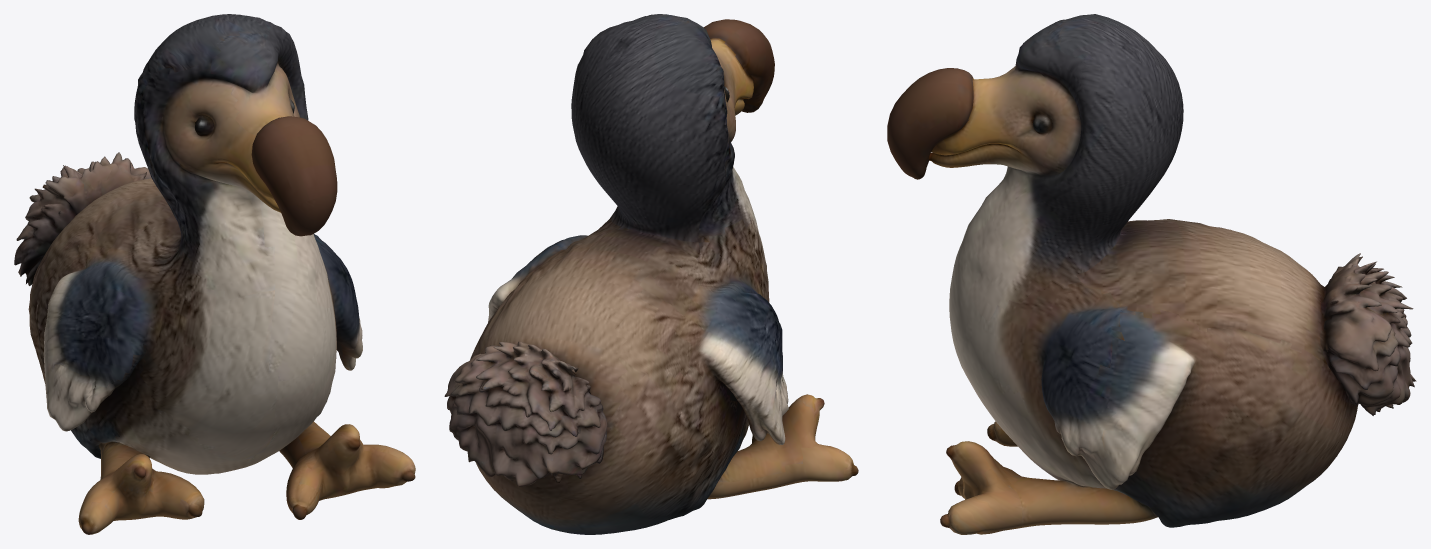
The model's file is doodles.glb.
3 renders of one model, left to right at view 1: azimuth 30°, elevation 25°; view 2: azimuth 150°, elevation 25°; view 3: azimuth 270°, elevation 25°, orthographic. The views are drawn at different scales.
Visible parts, largest first — view 1: doodles; view 2: doodles; view 3: doodles.
Part boxes in pixels (x1,y1,x2,y2): doodles: (14, 14, 415, 534); doodles: (444, 14, 858, 534); doodles: (887, 14, 1416, 534).
Bounding box in the file's own units: 1.01 × 1.37 × 1.4.
1 material, 1 textured.
